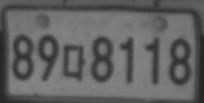1: (117, 36, 140, 83), (144, 38, 166, 84)
8: (89, 36, 114, 82), (168, 38, 192, 84), (11, 33, 34, 80)
9: (37, 34, 58, 81)
다: (62, 43, 86, 82)
